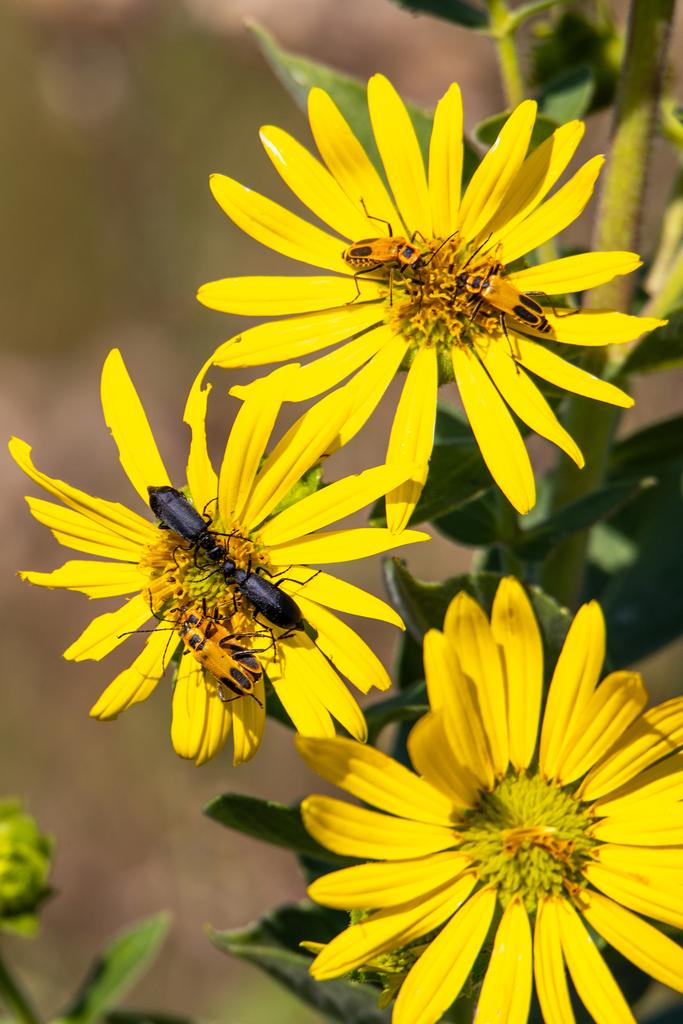blister_beetle: (118, 459, 251, 577), (207, 552, 316, 644)
